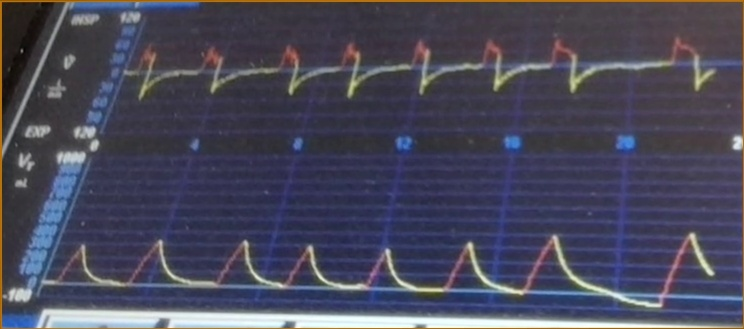Accumulation Flow: (136, 28, 714, 131)
Volume: (58, 227, 713, 308)
